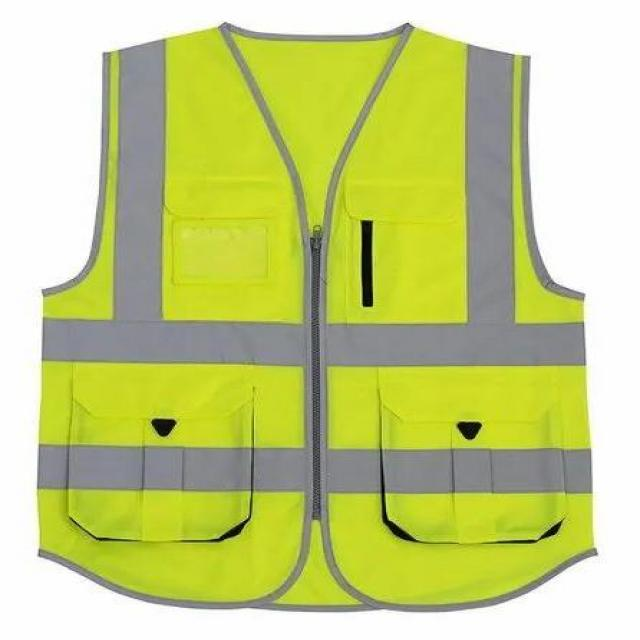Reflective-Jacket: (2, 7, 626, 638)
